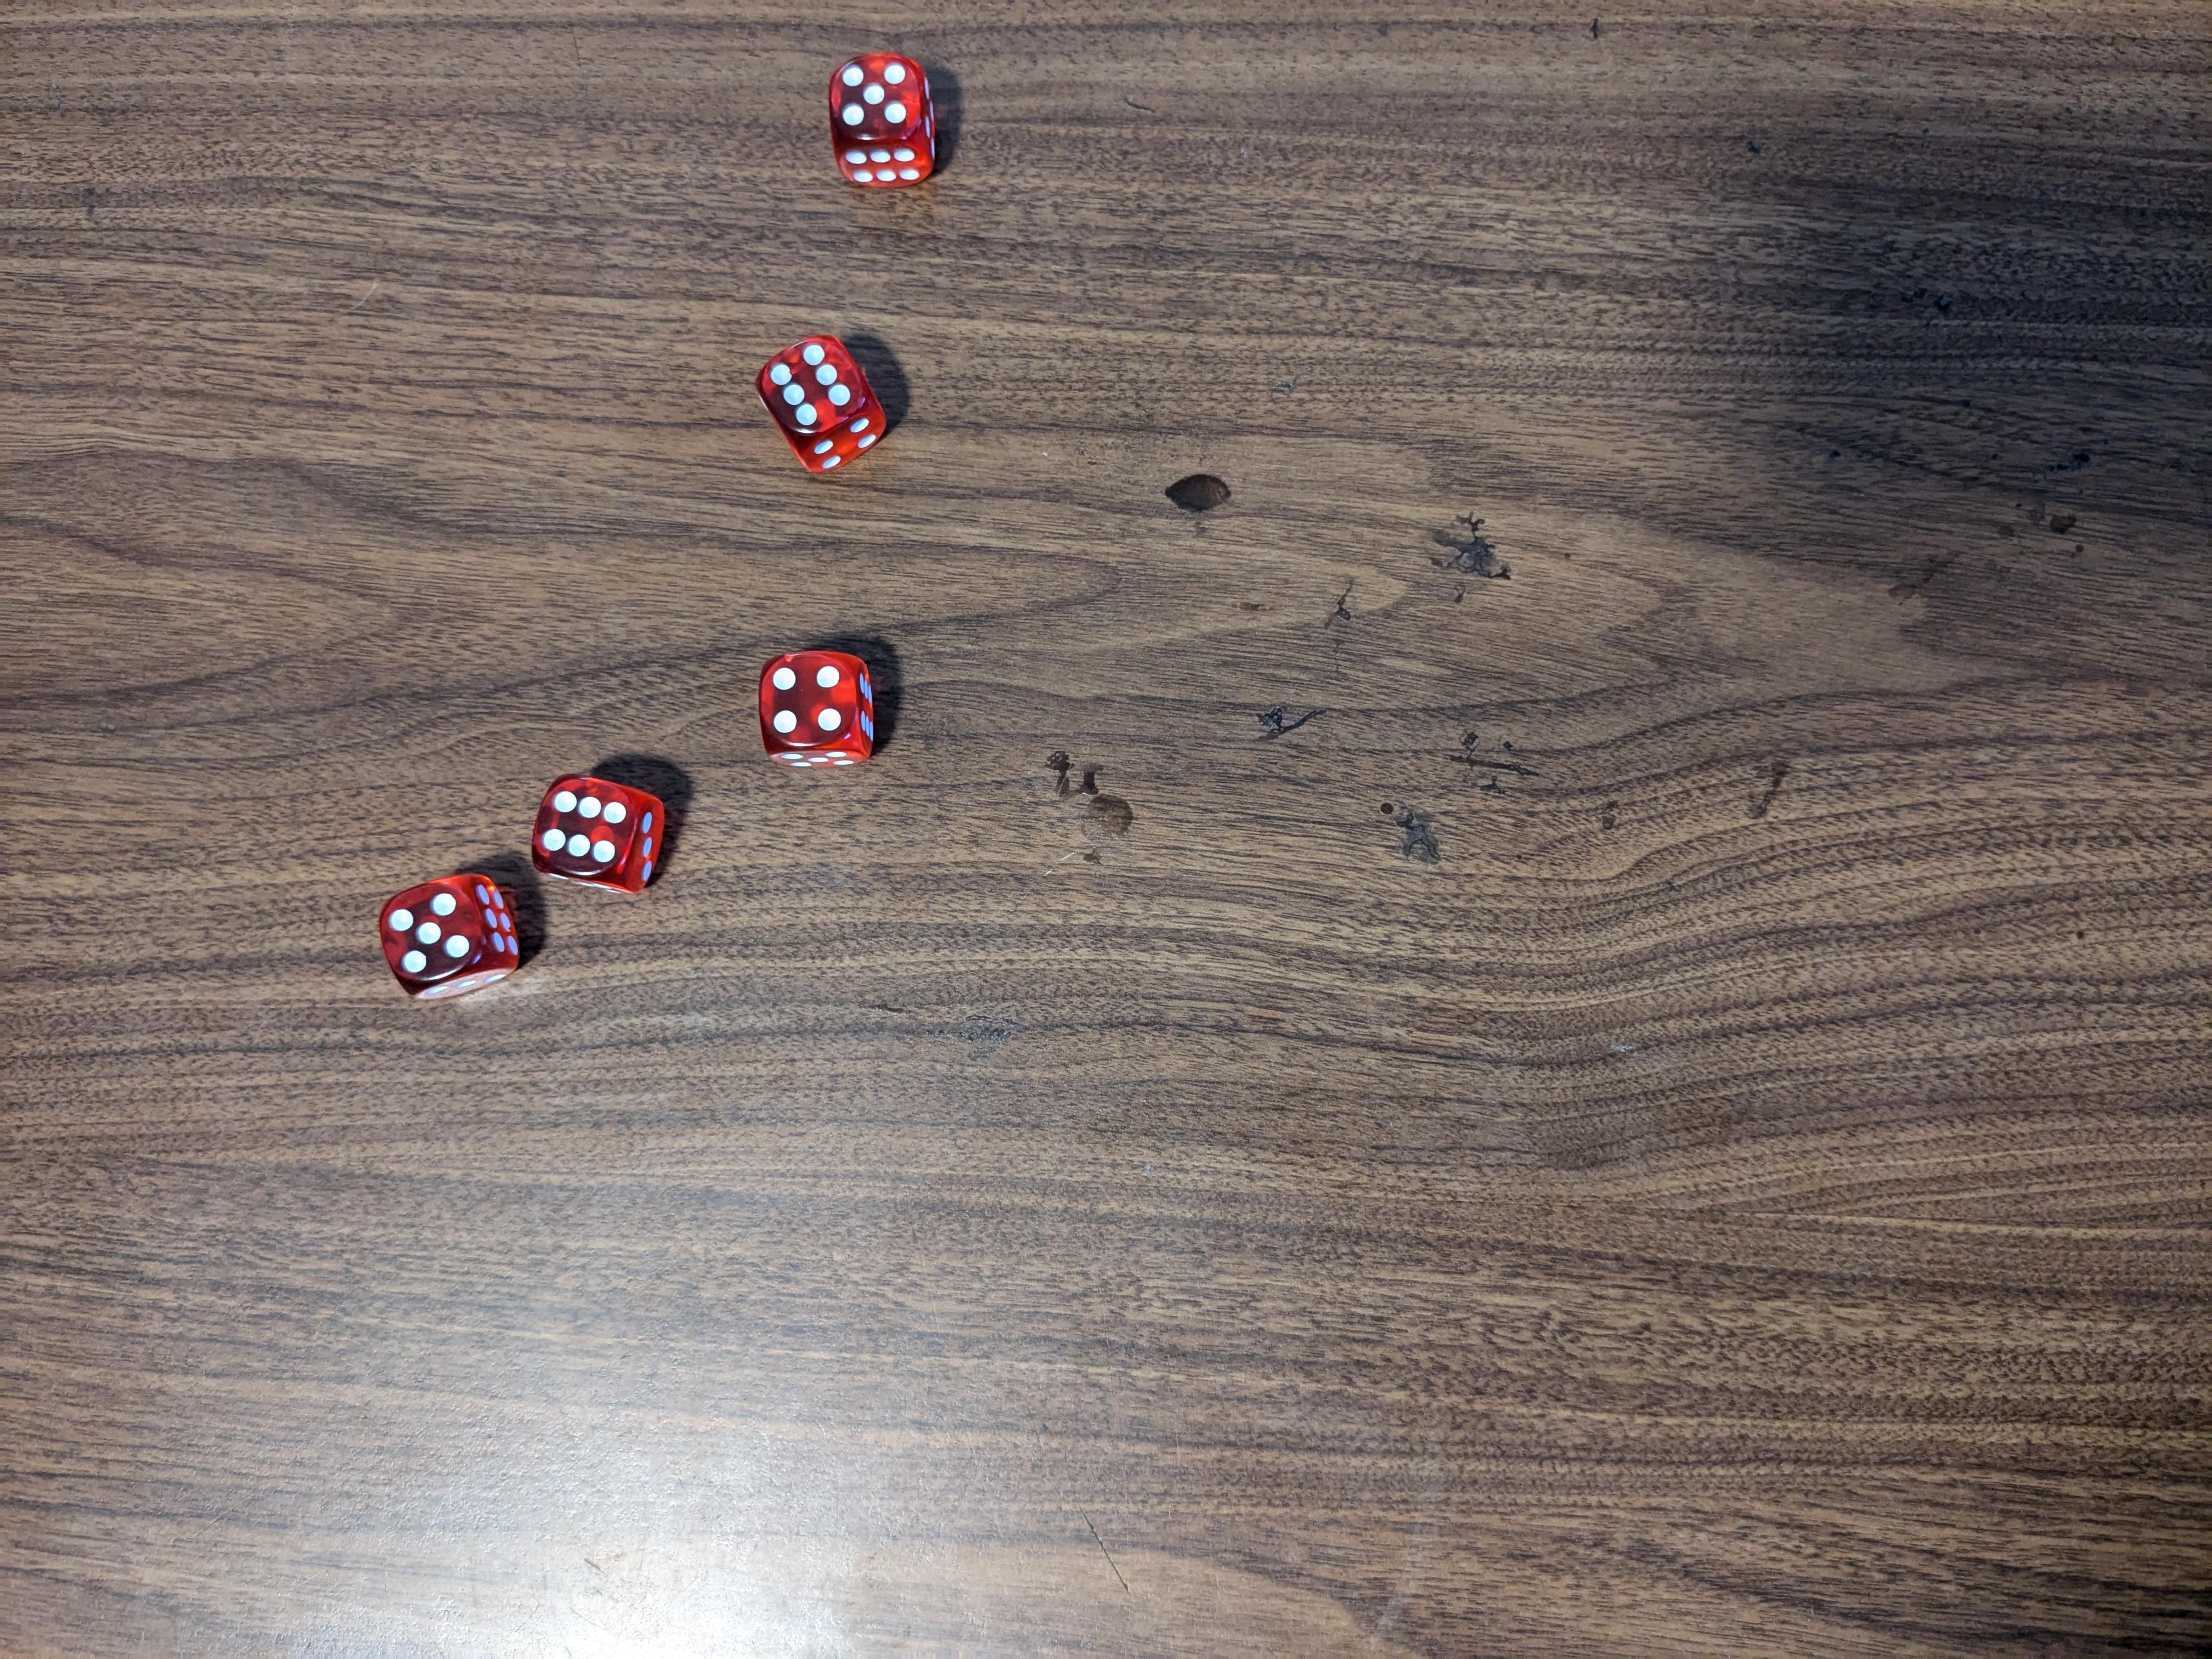five: (374, 866, 516, 1007), (831, 47, 946, 186)
four: (758, 648, 883, 777)
six: (751, 335, 894, 464), (535, 769, 672, 899)
